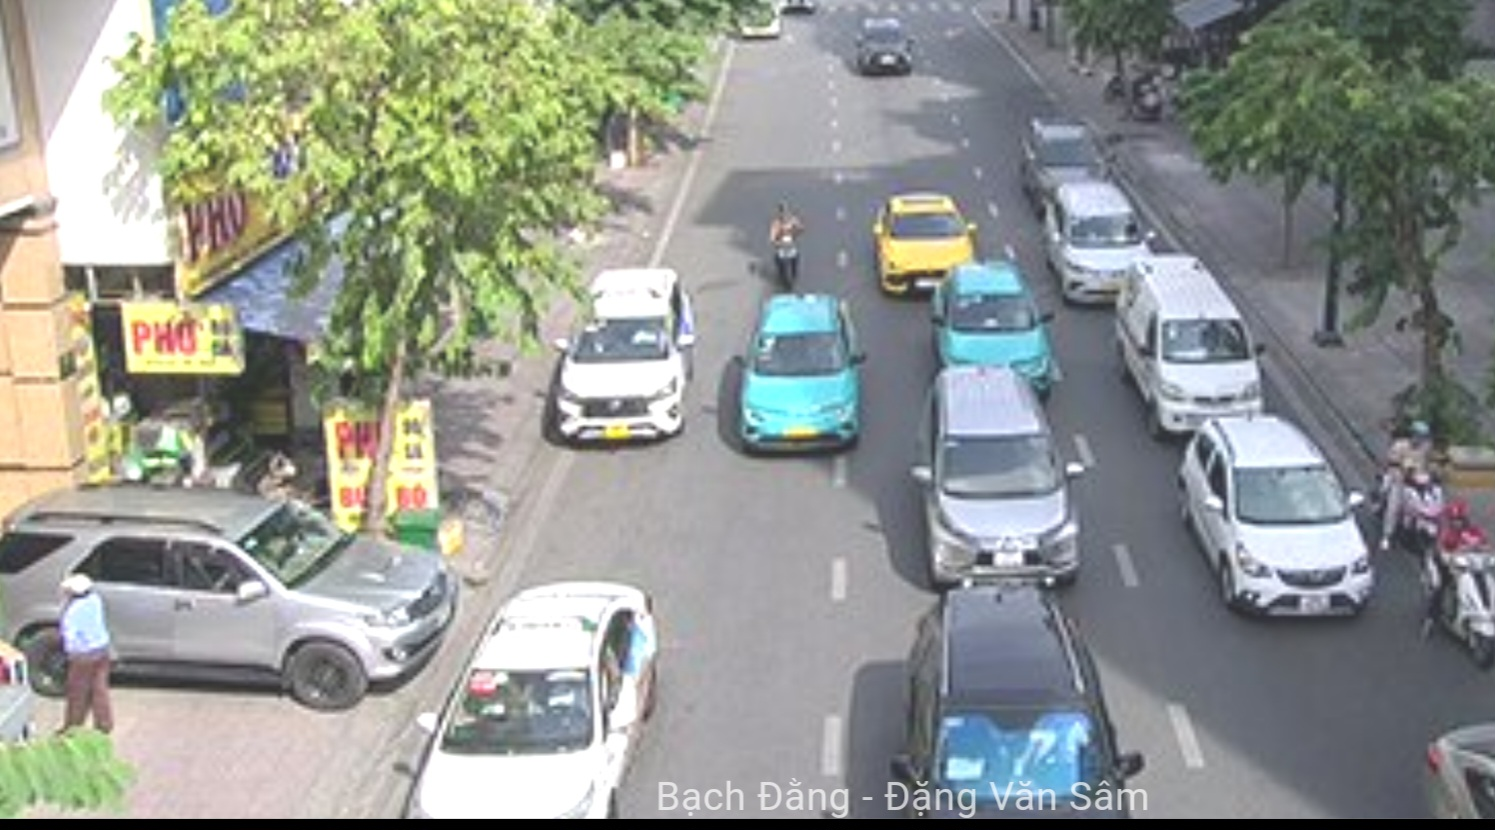car: (424, 577, 660, 830), (906, 587, 1130, 830), (1179, 417, 1381, 622), (921, 369, 1080, 579), (1114, 256, 1268, 424), (562, 265, 691, 452), (742, 290, 863, 455), (937, 261, 1056, 375), (1049, 183, 1153, 295), (874, 192, 973, 282), (1026, 121, 1107, 185), (853, 16, 915, 77)
